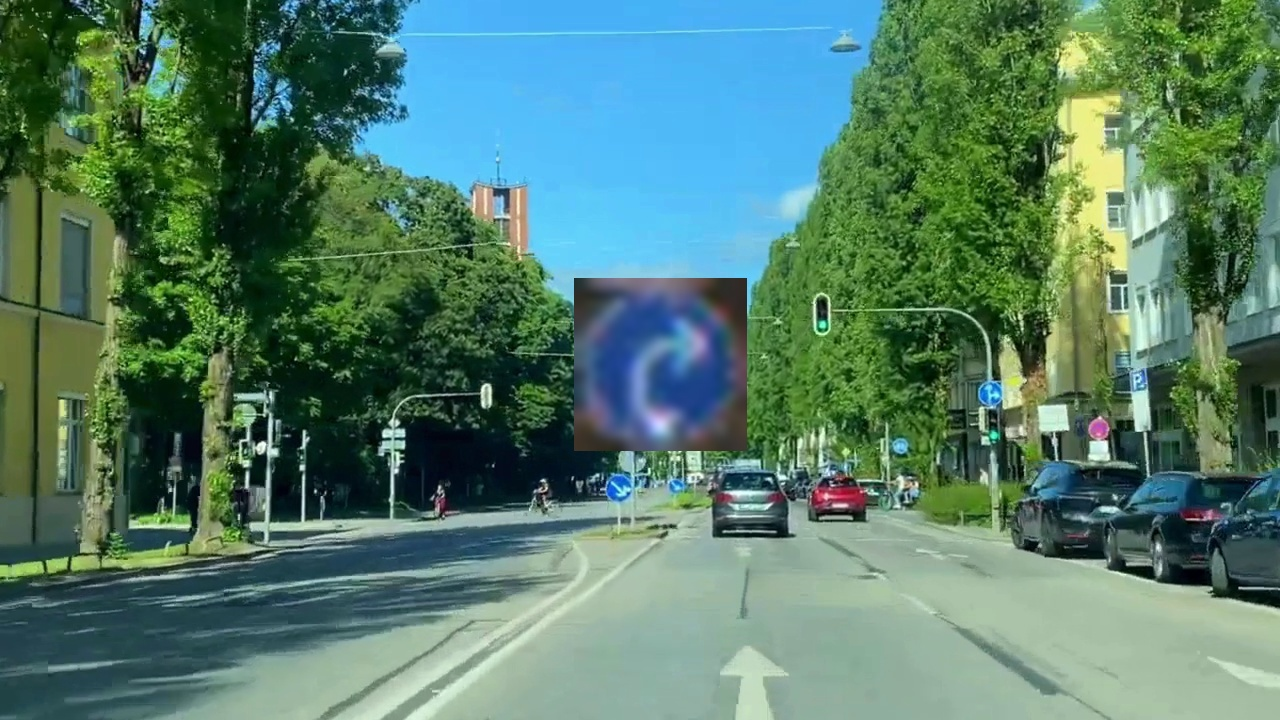Turn right: (574, 278, 747, 451)
